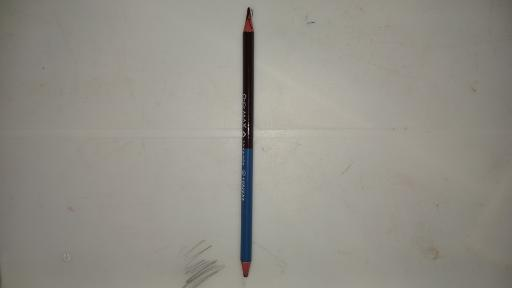Pencil: (239, 7, 253, 279)
